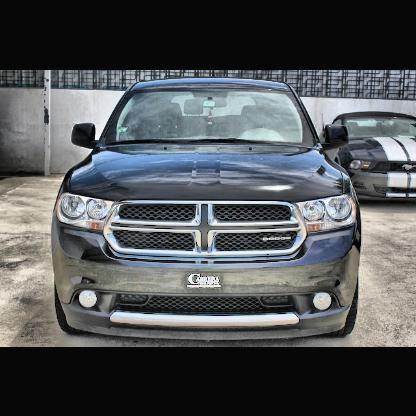Dodge Durango SUV 2012: (52, 79, 362, 342)
